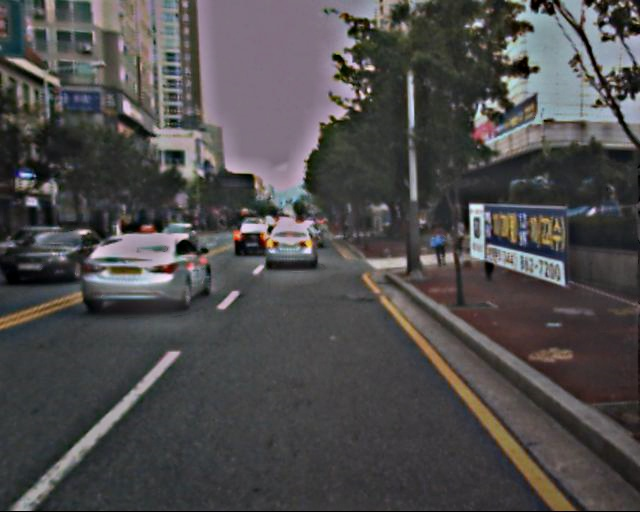person: (475, 223, 501, 286), (449, 211, 473, 269), (429, 218, 452, 273)
